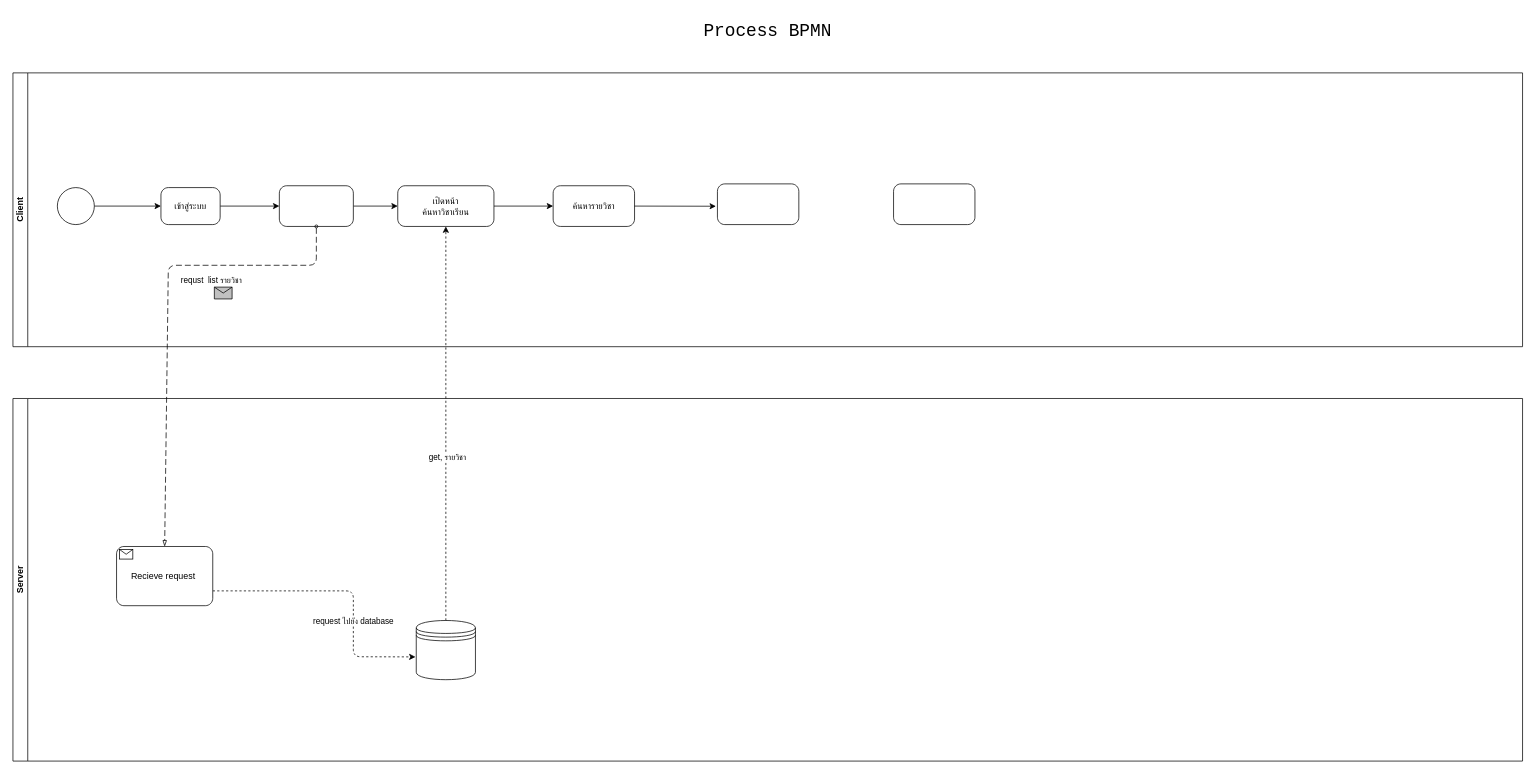
The diagram is 1536 pixels wide and 774 high, and some of its shapes have lost their labels. Each missing label, with the centre of its shape:
"download" belongs at point (934, 204).
"ต้องการลองจัดตารางเรียน" belongs at point (316, 205).
"เลือกรายวิชาที่ต้องการ" belongs at point (758, 204).
